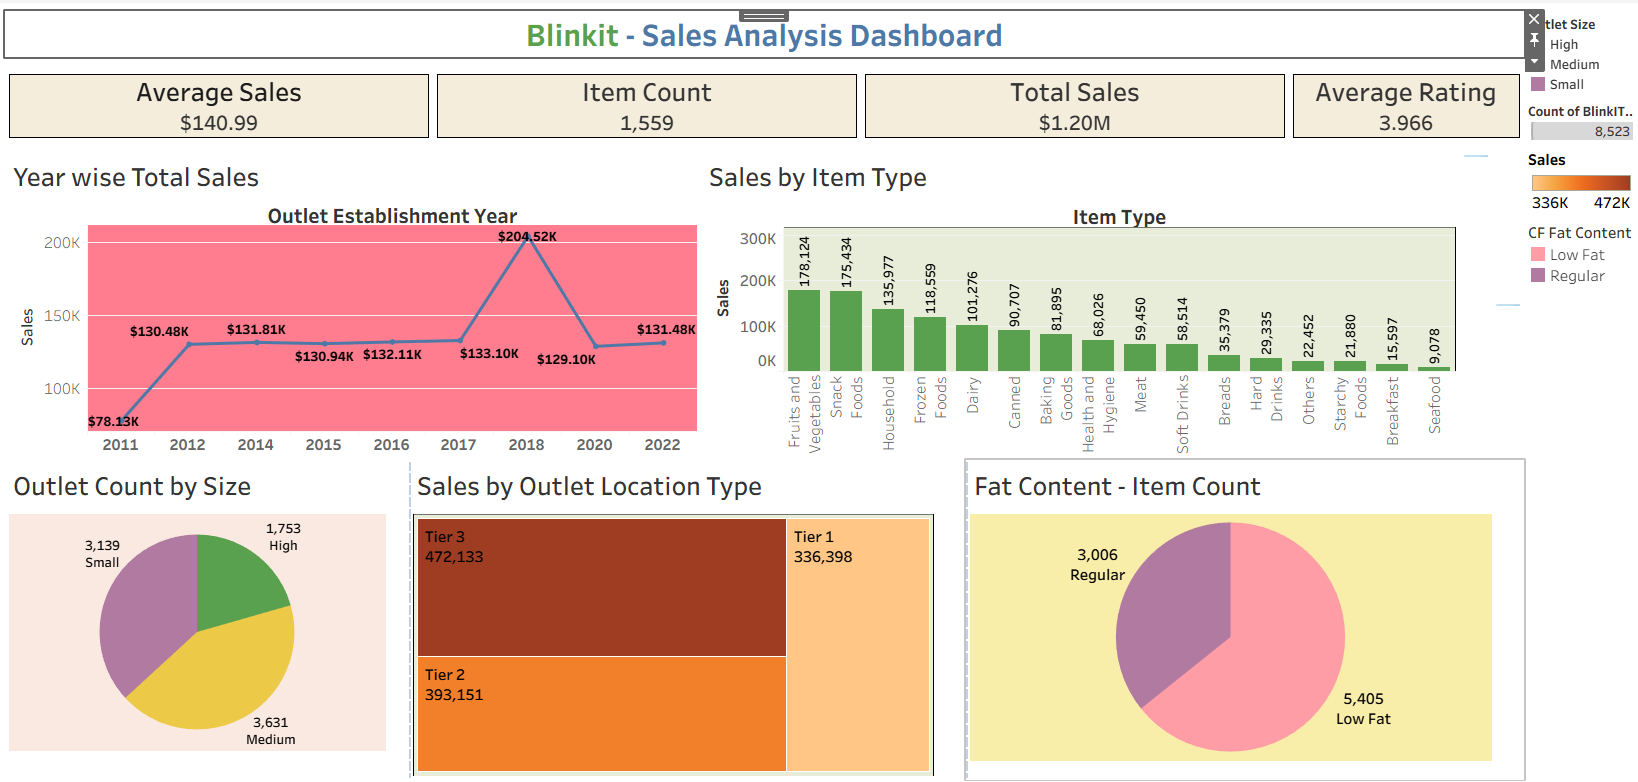

The page's visual inventory and layout, read from the dashboard file:
{"tool":"tableau","page":{"name":"Blinkit - Sales Analysis Dashboard","canvas":[1000,1000],"units":"permille","ordinal":0},"visuals":[{"type":"text","box":[4.9,10.2,920.6,58.6]},{"type":"legend","title":"Outlet Count by Size","param":"[federated.0k33k6o0hn5hlu1g9cjog0rmidhd].[none:Outlet Size:nk]","box":[925.5,10.2,69.7,110.8]},{"type":"worksheet","title":"Average Rating","mark":"Automatic","box":[782.9,85.3,142.6,103.2]},{"type":"worksheet","title":"Average Sales","mark":"Automatic","box":[4.9,85.4,259.4,103.2]},{"type":"worksheet","title":"Item Count","mark":"Automatic","box":[264.2,85.4,259.4,103.2]},{"type":"worksheet","title":"Total Sales","mark":"Automatic","box":[523.6,85.4,259.4,103.2]},{"type":"legend","title":"Outlet Count by Size","param":"[federated.0k33k6o0hn5hlu1g9cjog0rmidhd].[__tableau_internal_object_id__].[cnt:B","box":[925.5,121,69.7,59.9]},{"type":"legend","title":"Sales by Outlet Location Type","param":"[federated.0k33k6o0hn5hlu1g9cjog0rmidhd].[sum:Sales:qk]","box":[925.5,180.9,69.7,93]},{"type":"worksheet","title":"Year wise Total Sales","mark":"Automatic","rows":["Sales"],"cols":["Outlet Establishment Year"],"box":[4.9,188.5,421.8,393.6]},{"type":"worksheet","title":"Sales by Item Type","mark":"Automatic","rows":["Sales"],"cols":["Item Type"],"box":[426.7,188.5,460,393.6]},{"type":"image","param":"Image/Background1.png","box":[886.7,188.5,19.4,393.6]},{"type":"image","param":"Image/Background1.png","box":[906.1,188.5,19.4,393.6]},{"type":"legend","title":"Fat Content - Item Count","param":"[federated.0k33k6o0hn5hlu1g9cjog0rmidhd].[none:Calculation_1187542986233180165:n","box":[925.5,273.9,69.7,91.7]},{"type":"worksheet","title":"Outlet Count by Size","mark":"Pie","box":[4.9,582.1,244.8,407.7]},{"type":"worksheet","title":"Sales by Outlet Location Type","mark":"Automatic","box":[249.7,582.1,337.9,407.7]},{"type":"worksheet","title":"Fat Content - Item Count","mark":"Pie","box":[587.6,582.1,337.9,407.7]}]}

Visuals, with their boxes on the dashboard's canvas, which has no fixed pixel size, in thousandths of its width and height (x1, y1, x2, y2). These are canvas units, not pixel positions in the 1638x782 screenshot, which may show the page scaled, cropped or inside an application window:
text: left=5, top=10, right=926, bottom=69
"Outlet Count by Size" legend: left=926, top=10, right=995, bottom=121
"Average Rating" worksheet: left=783, top=85, right=926, bottom=188
"Average Sales" worksheet: left=5, top=85, right=264, bottom=189
"Item Count" worksheet: left=264, top=85, right=524, bottom=189
"Total Sales" worksheet: left=524, top=85, right=783, bottom=189
"Outlet Count by Size" legend: left=926, top=121, right=995, bottom=181
"Sales by Outlet Location Type" legend: left=926, top=181, right=995, bottom=274
"Year wise Total Sales" worksheet: left=5, top=188, right=427, bottom=582
"Sales by Item Type" worksheet: left=427, top=188, right=887, bottom=582
image: left=887, top=188, right=906, bottom=582
image: left=906, top=188, right=926, bottom=582
"Fat Content - Item Count" legend: left=926, top=274, right=995, bottom=366
"Outlet Count by Size" worksheet (Pie marks): left=5, top=582, right=250, bottom=990
"Sales by Outlet Location Type" worksheet: left=250, top=582, right=588, bottom=990
"Fat Content - Item Count" worksheet (Pie marks): left=588, top=582, right=926, bottom=990
